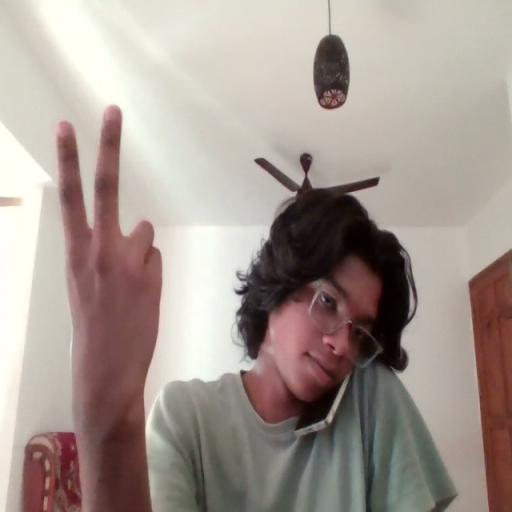scissor: (55, 100, 162, 382)
